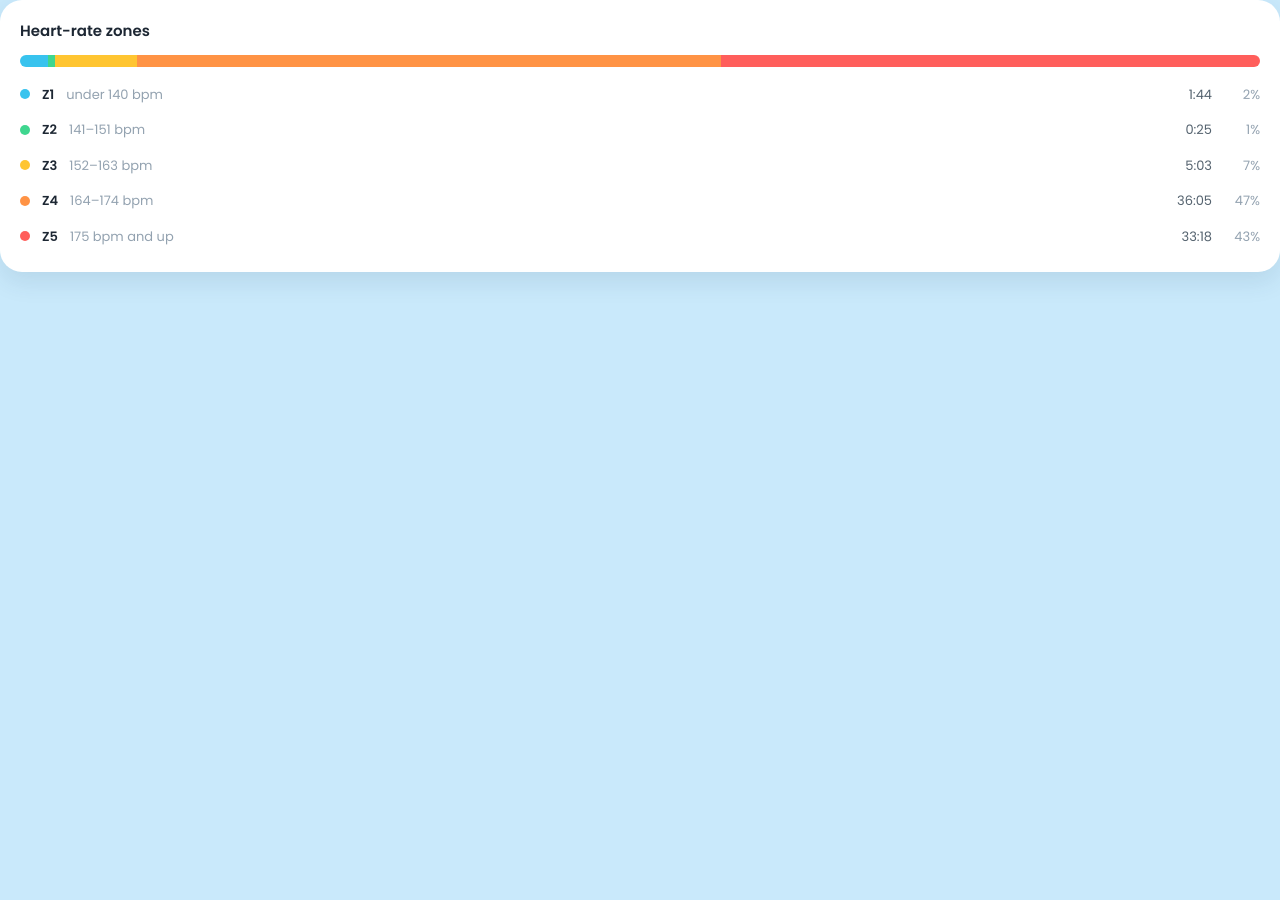
it: ZoneBar — the zone sheet › zone 5 has no ceiling for the same reason
Click the button with aria-label "Edit zone 5". click: (122, 236)
box: [20,220,1260,252]
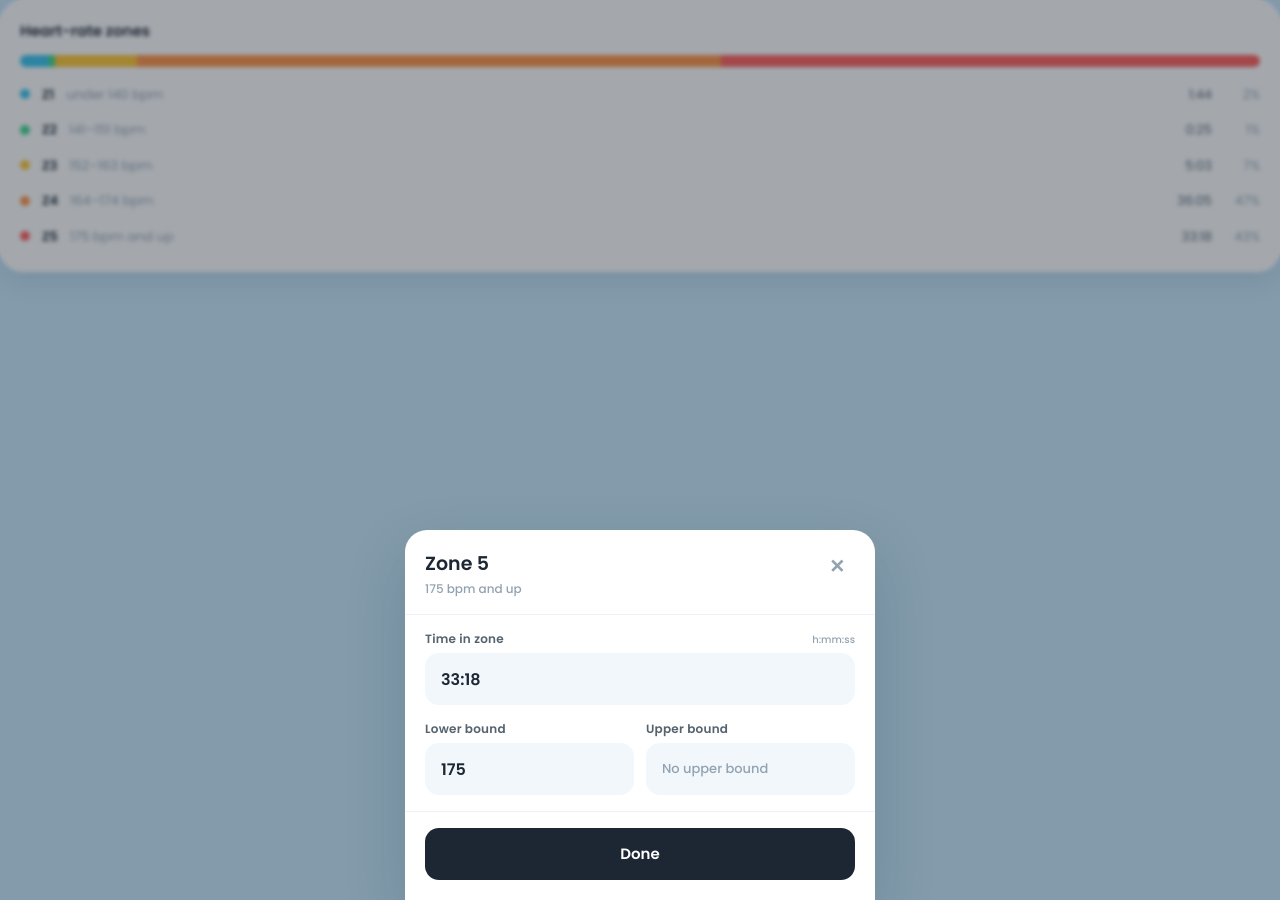
Expected: the text "No upper bound" is shown, [646,743,855,795]
Expected: the field named "Zone 5 lower bound in beats per minute" holds "175", [425,743,634,795]
